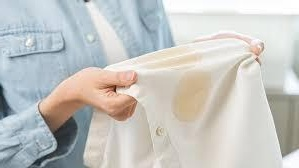coffee: (171, 70, 212, 120)
